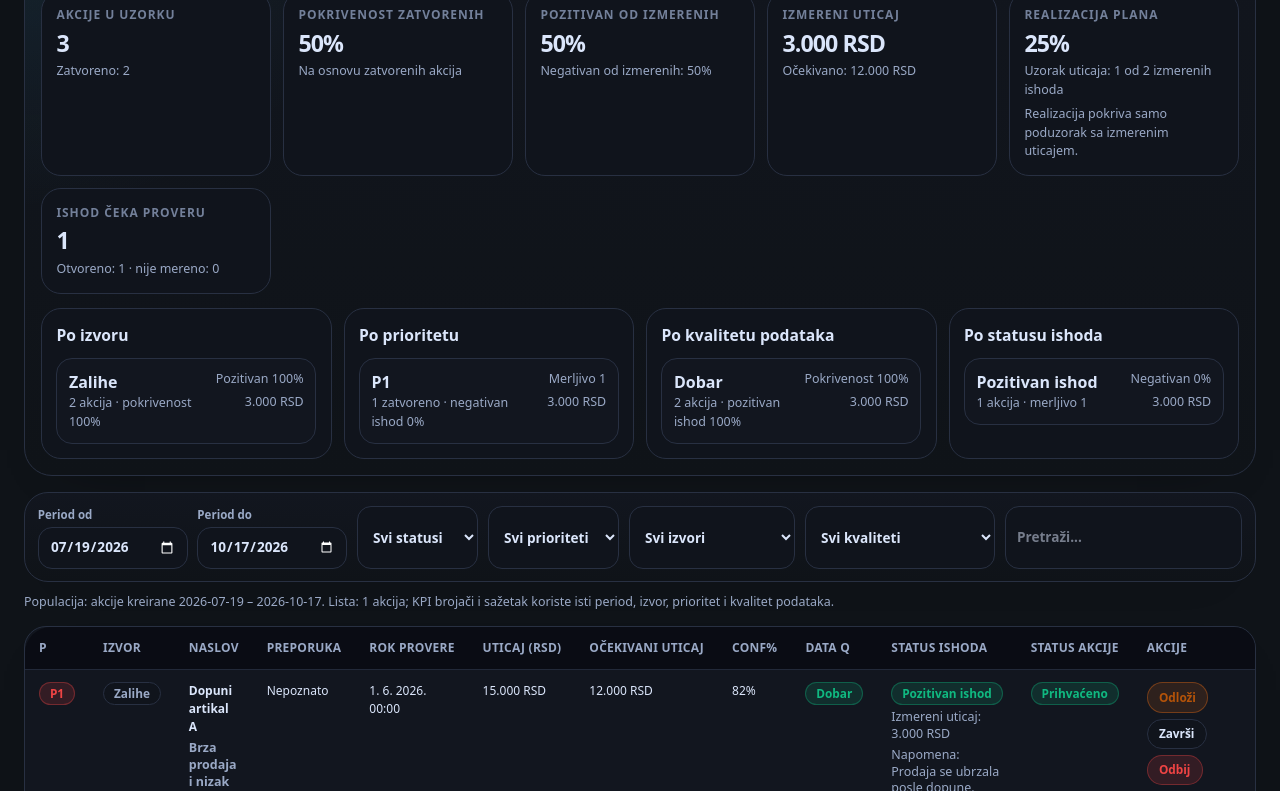
it: AnalyticsActionsPage › applies list filters when a summary bucket is clicked
The image size is (1280, 791).
(page scrolled)
Expected: the text "Dopuni artikal A" is shown, [189, 682, 232, 735]
Click the button "Zalihe 2 akcija · pokrivenost 100% Pozitivan 100% 3.000 RSD".
click(186, 401)  # box [56, 358, 316, 444]
(page scrolled)
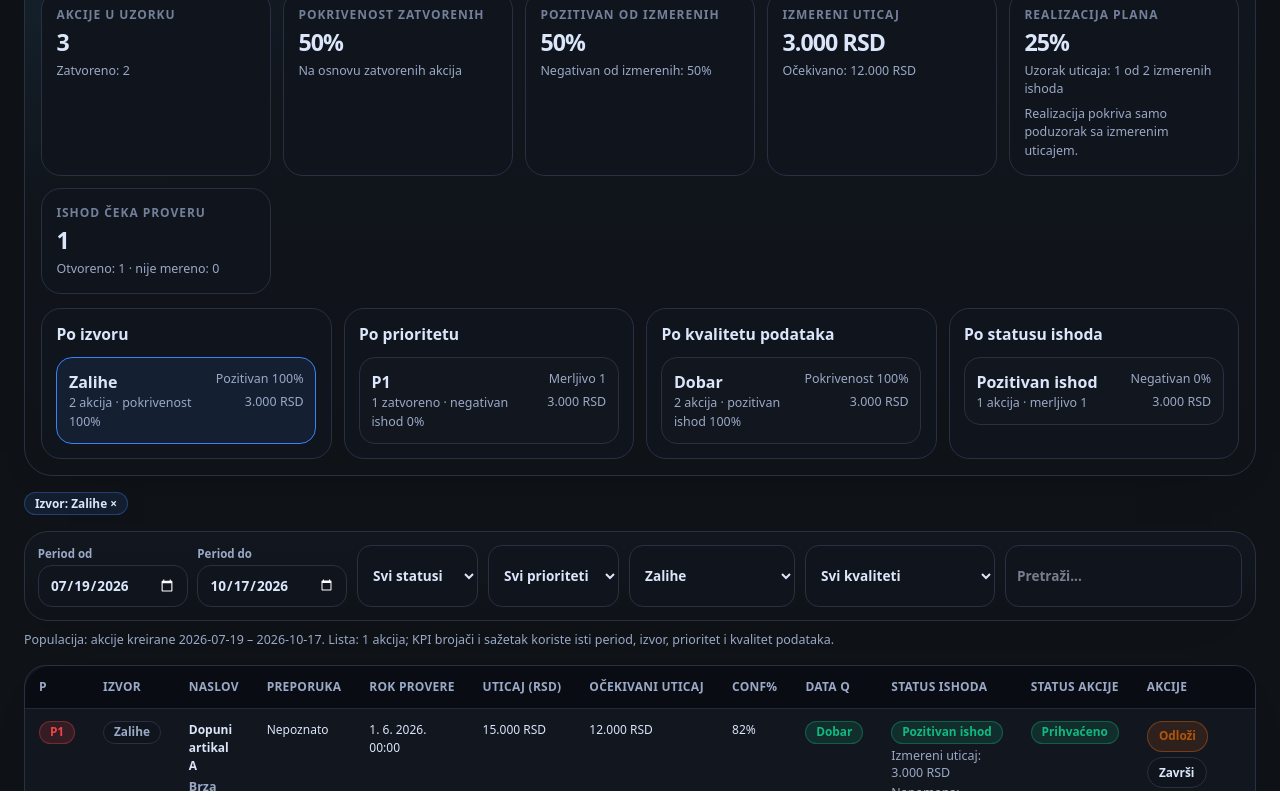
Expected: the dropdown named "Filter po izvoru" shows "Zalihe", [629, 545, 795, 607]
Click the button "Izvor: Zalihe ×".
click(76, 504)  # box [24, 492, 128, 515]
(page scrolled)
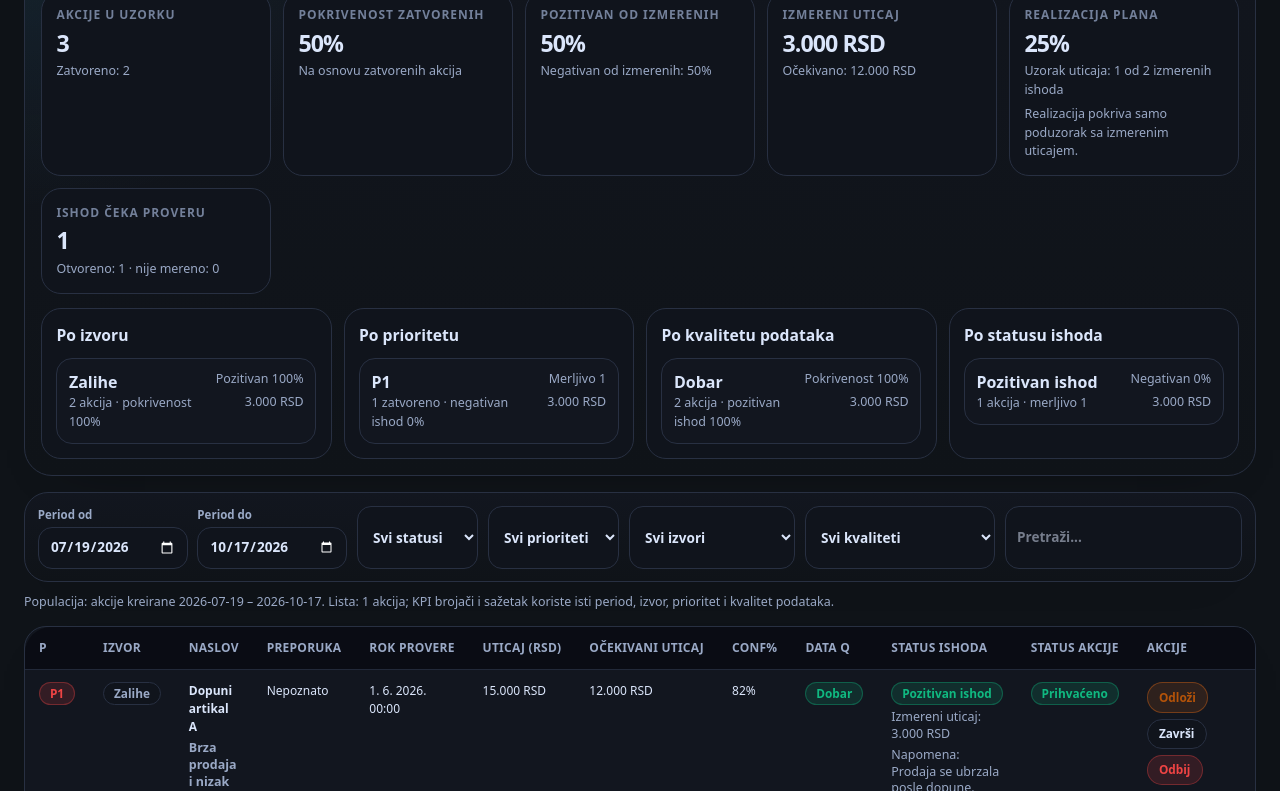
Expected: the dropdown named "Filter po izvoru" shows "Svi izvori", [629, 506, 795, 569]
Click the button "P1 1 zatvoreno · negativan ishod 0% Merljivo 1 3.000 RSD".
click(489, 401)  # box [359, 358, 619, 444]
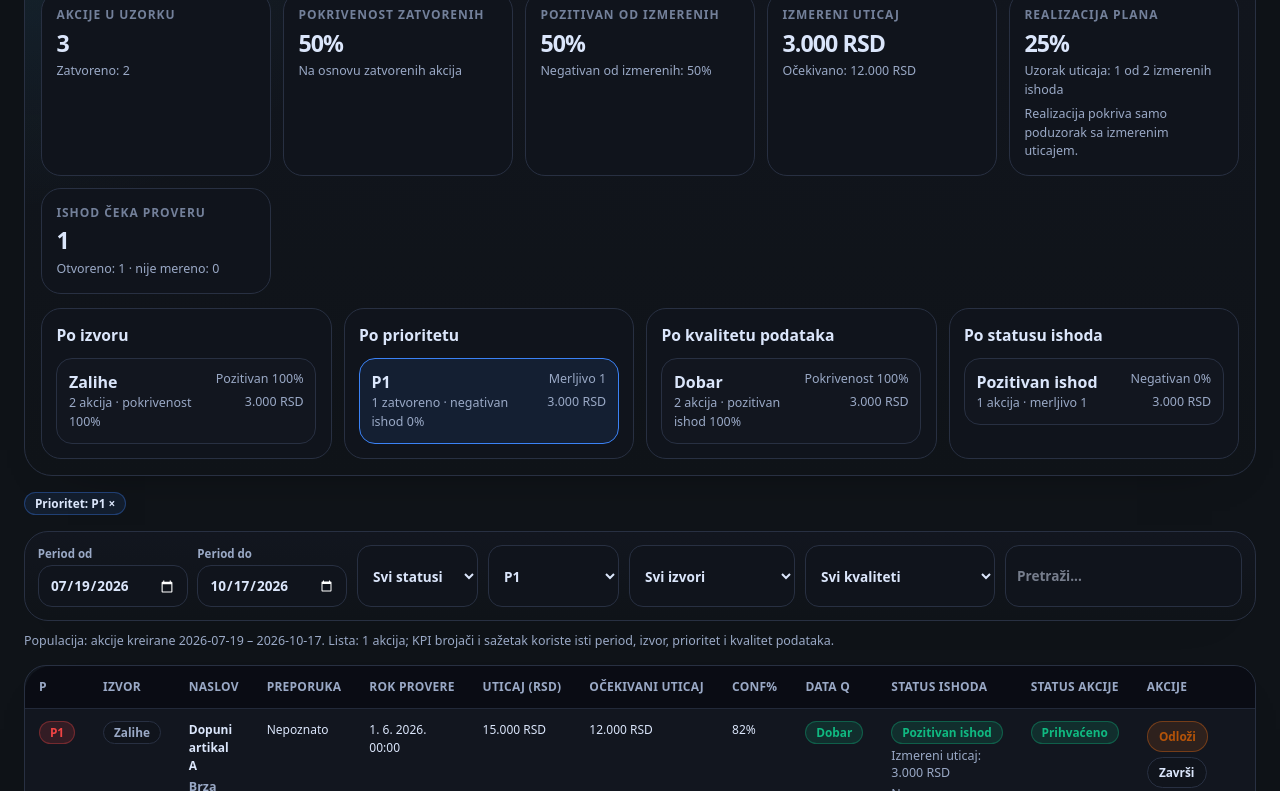
Expected: the dropdown named "Filter po prioritetu" shows "P1", [488, 545, 619, 607]
Click the button "Dobar".
click(791, 401)  # box [661, 358, 921, 444]
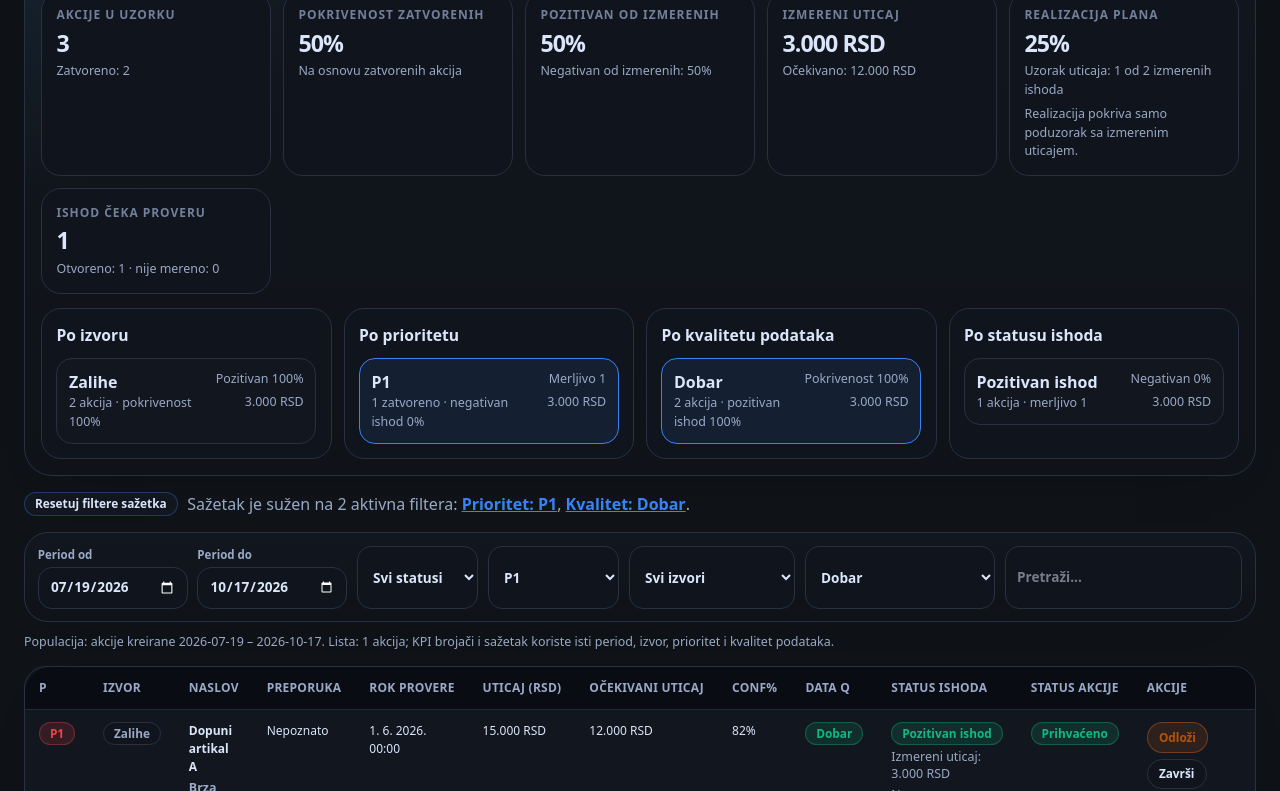
Expected: the dropdown named "Filter po kvalitetu podataka" shows "Dobar", [805, 546, 995, 609]
